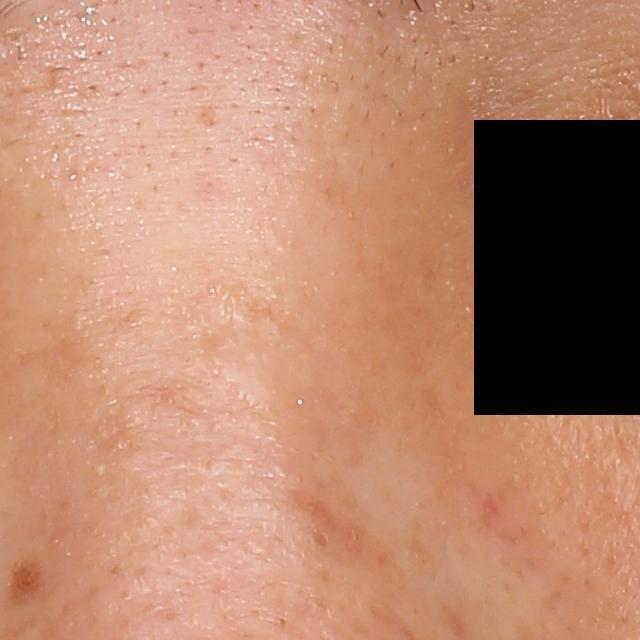atrophic_scar: (194, 99, 217, 130)
comedo: (3, 25, 28, 48), (310, 529, 332, 552)
nevus: (7, 556, 44, 605)
